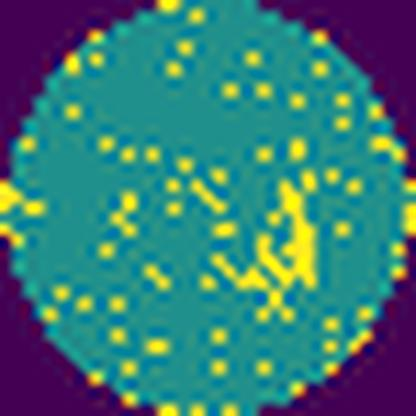Loc: (253, 179, 316, 289)
